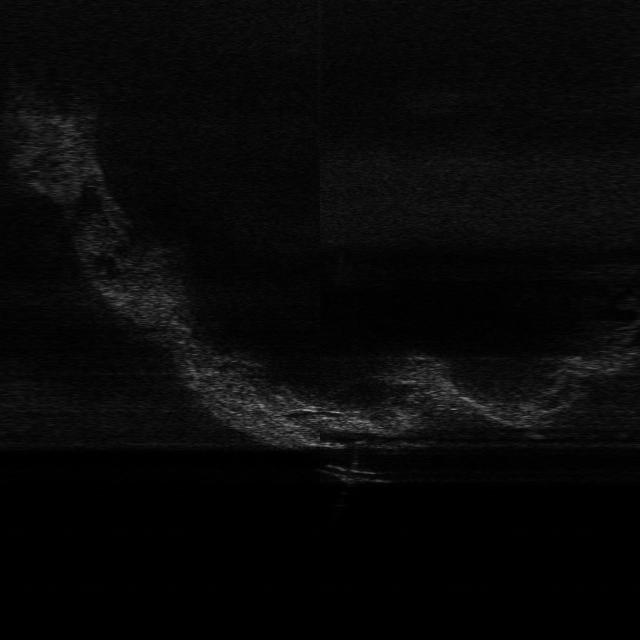plane: (319, 461, 397, 486)
